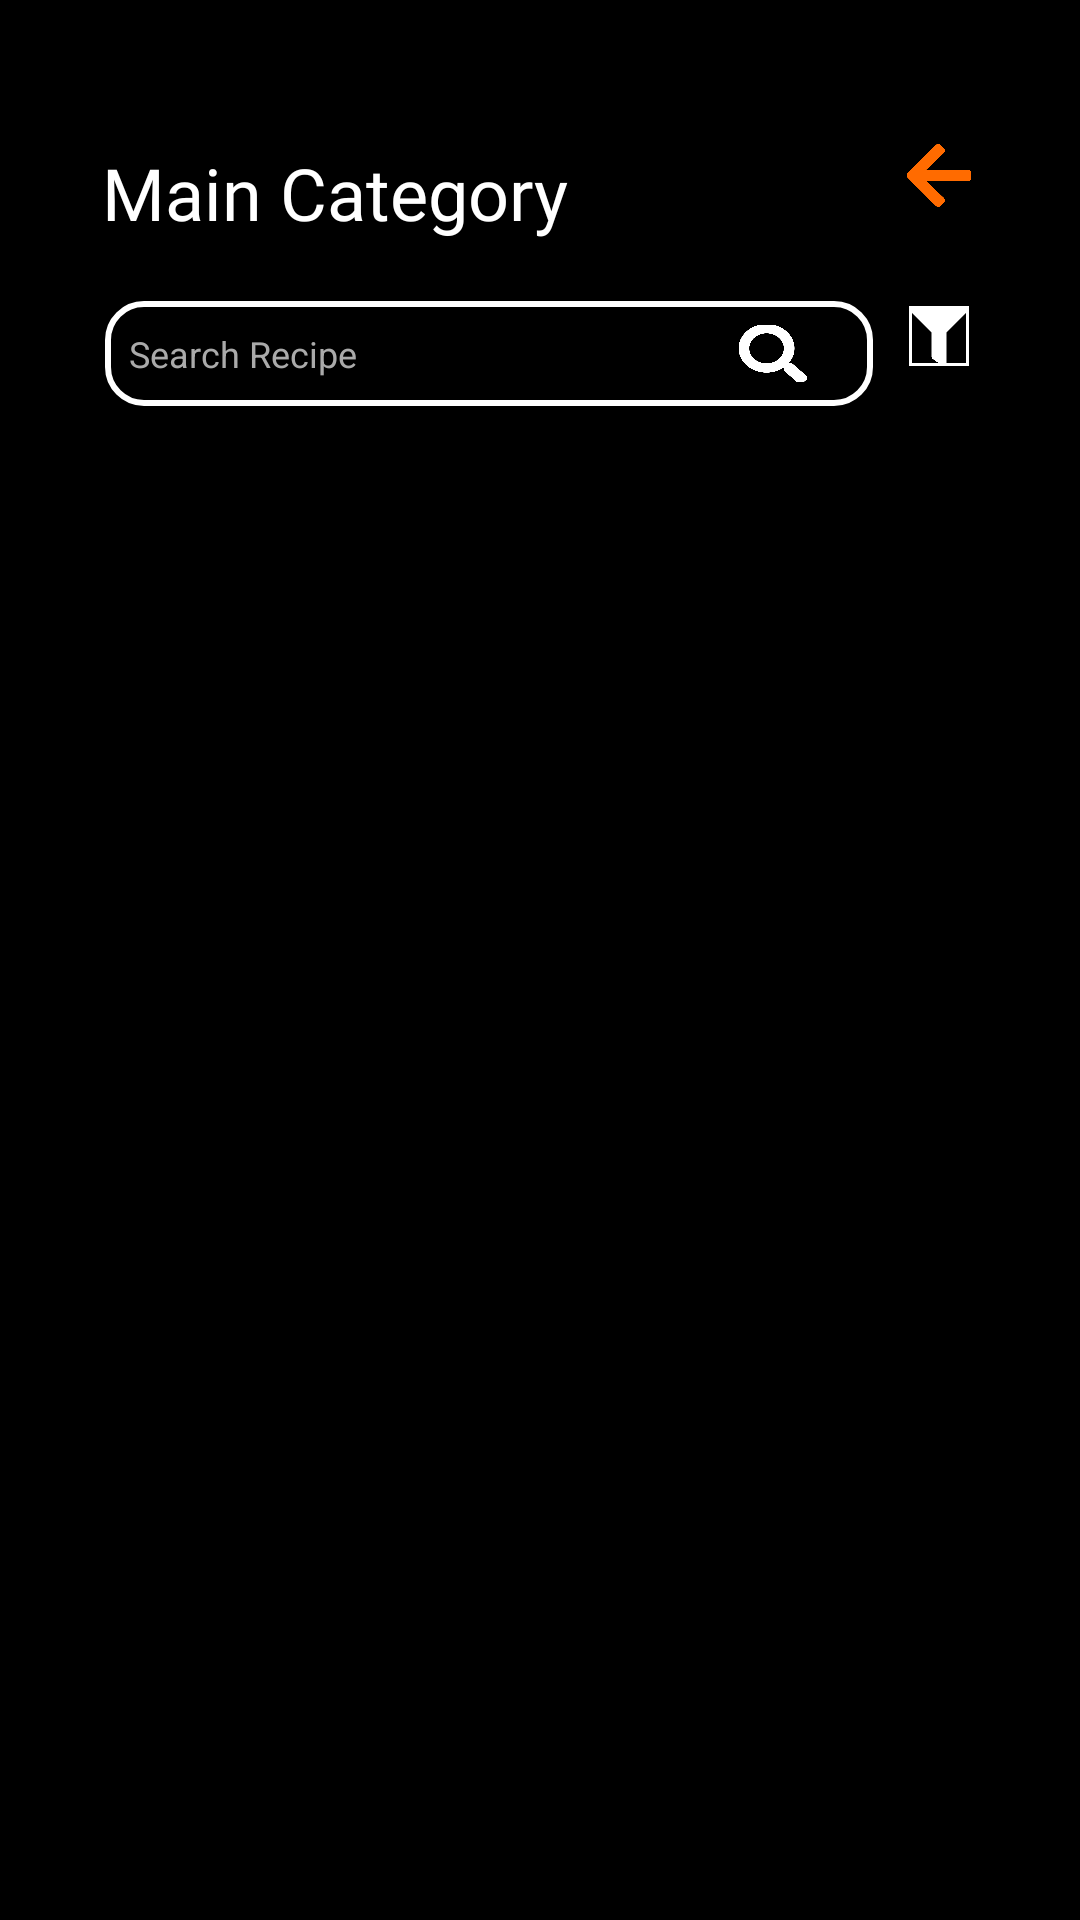

Icons on this 1080*1920 Android screen, each with the point to tap as [x,y]:
back: [939,175]
